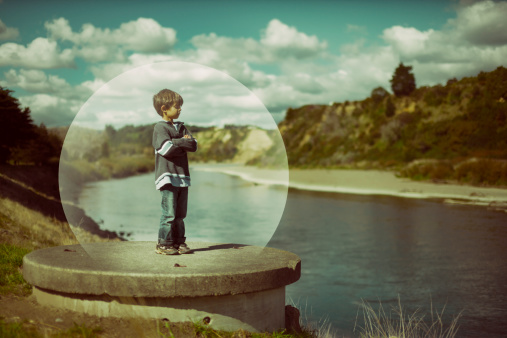em pe: (144, 96, 195, 250)
